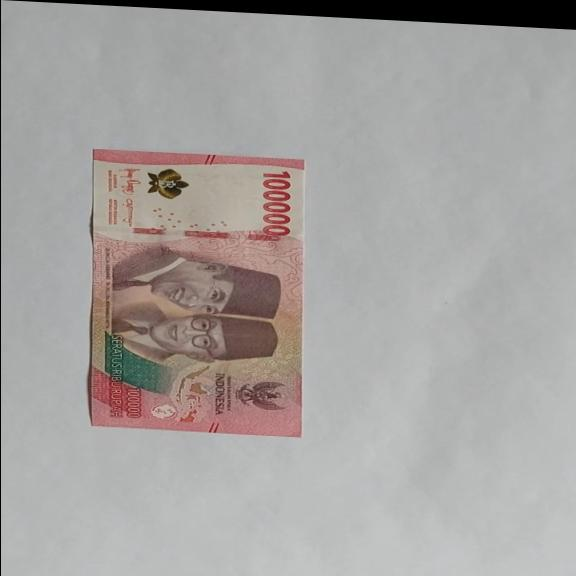Kertas: (88, 148, 306, 439), (260, 169, 294, 238)
